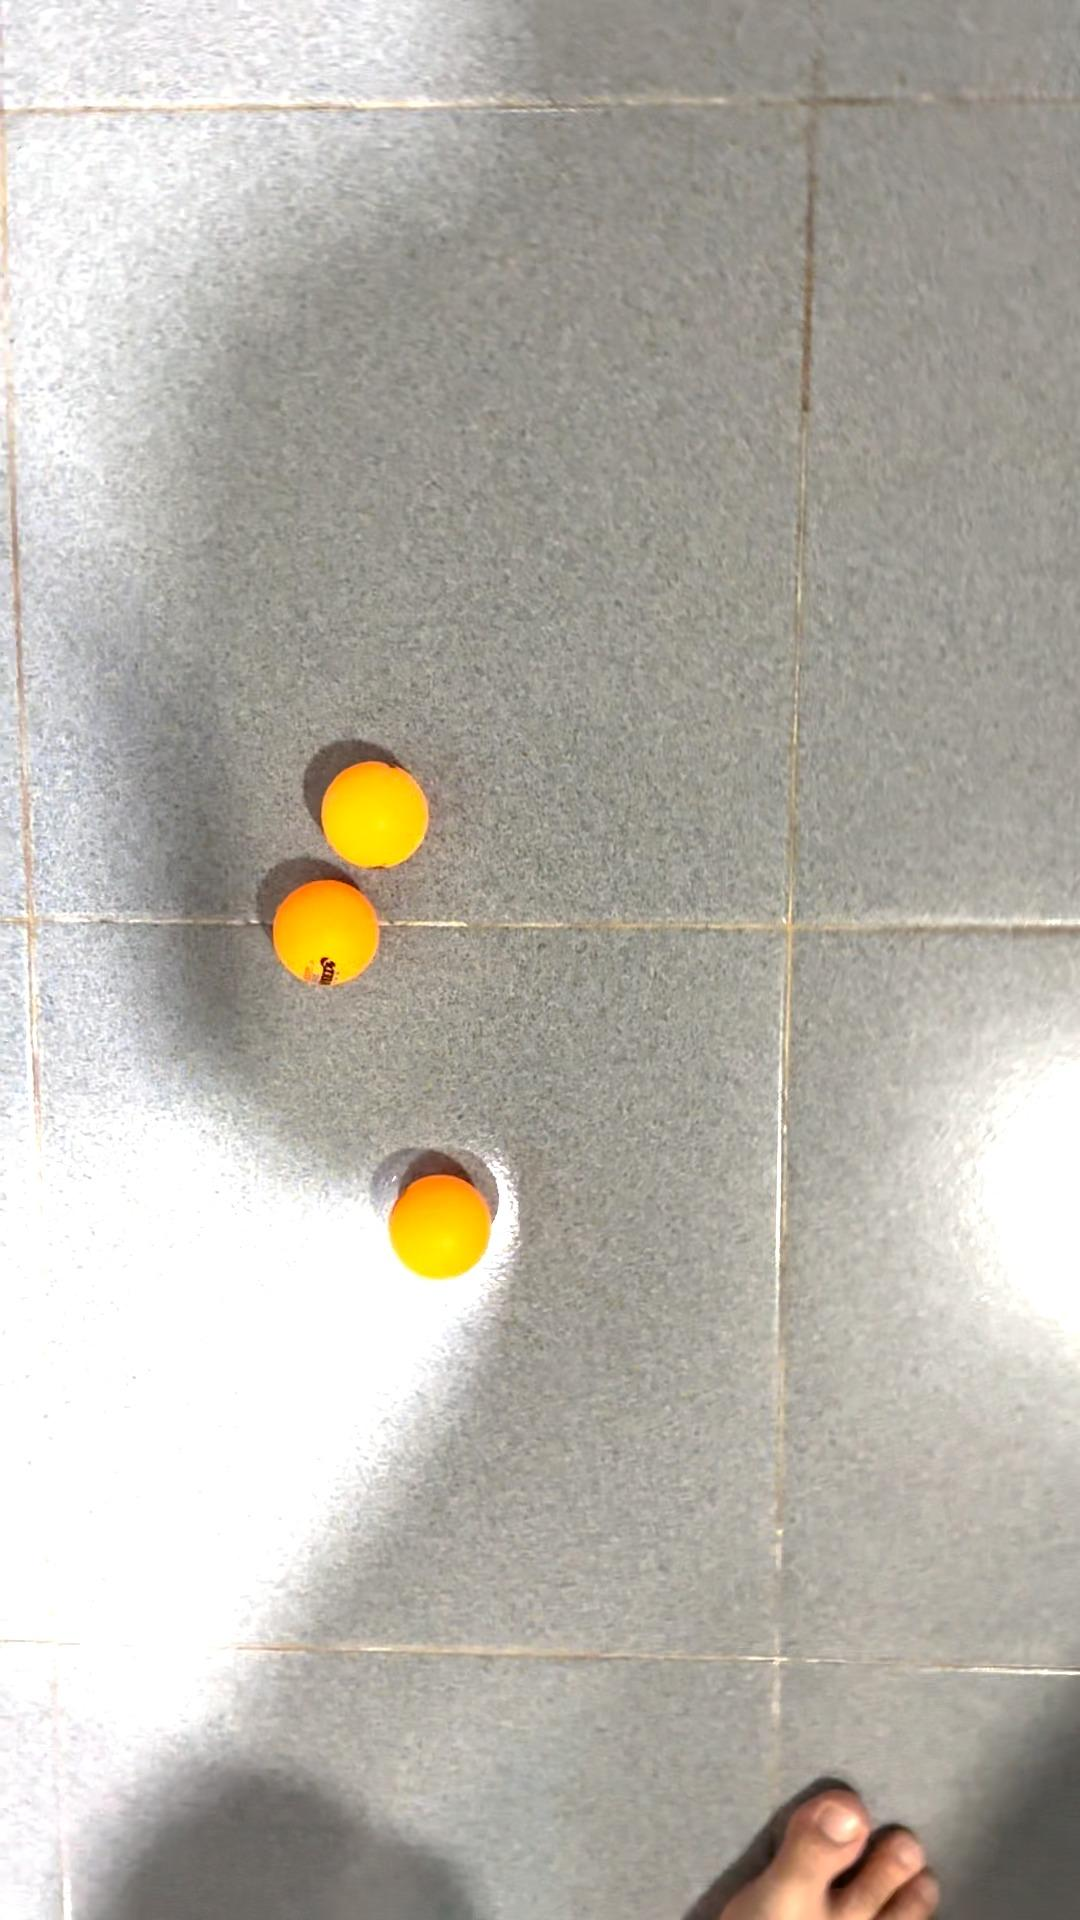oball: (257, 872, 390, 1002), (371, 1164, 510, 1288), (314, 752, 442, 873)
